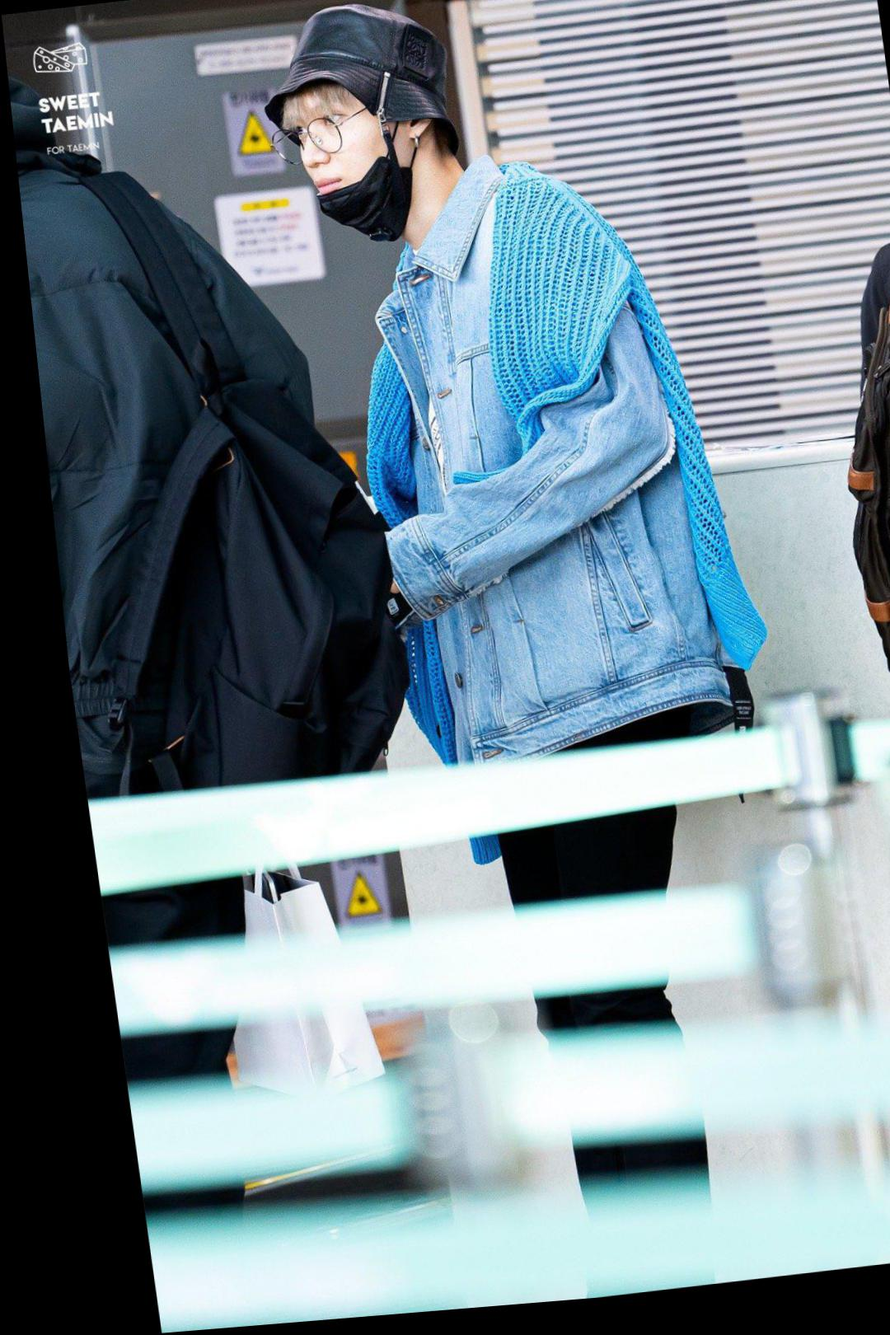WRONG: (283, 87, 377, 232)
